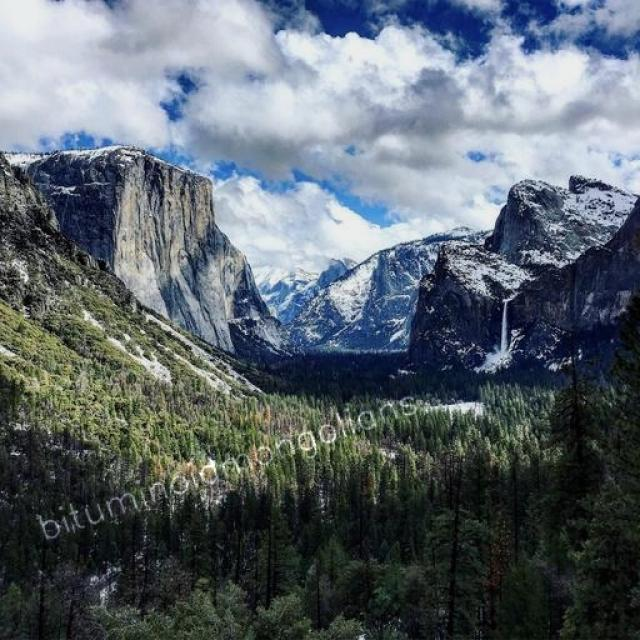watermark: (33, 382, 420, 547)
